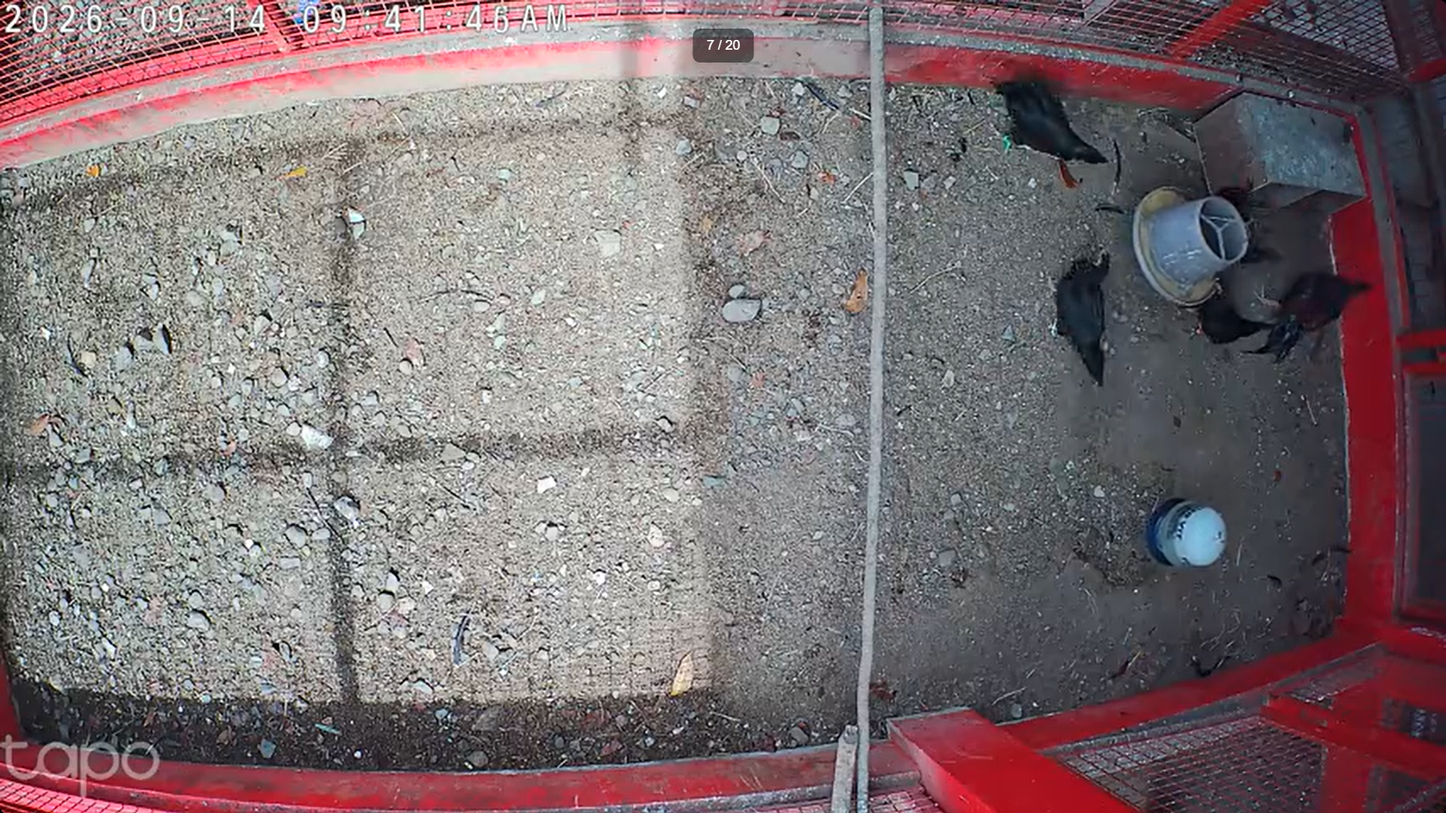Chicken: (989, 74, 1109, 168), (1043, 243, 1112, 389)
Drinker: (1147, 498, 1227, 568)
Feeder: (1132, 183, 1250, 308)
Rooster: (1240, 270, 1377, 366)
